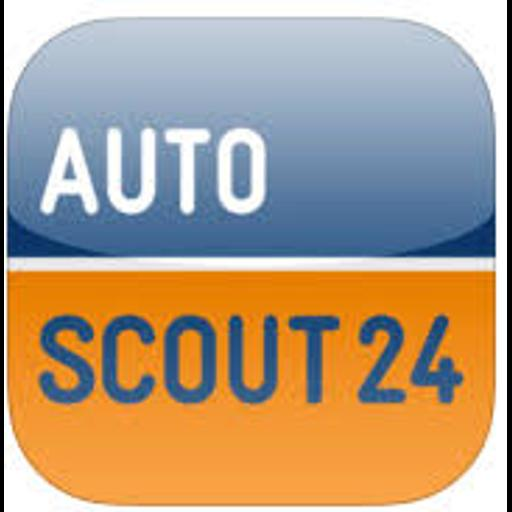AutoScout24: (4, 0, 507, 512)
